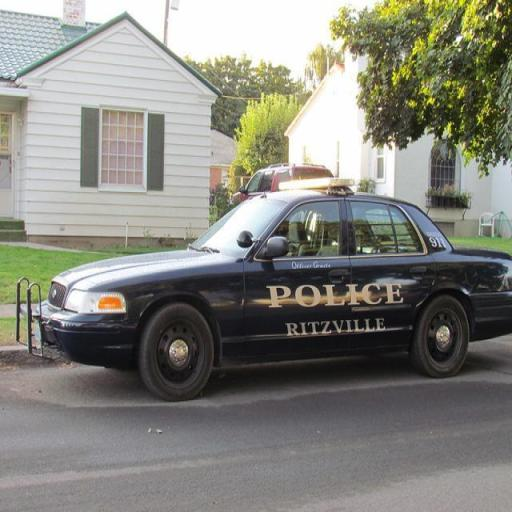Ambulance: (38, 171, 508, 397)
